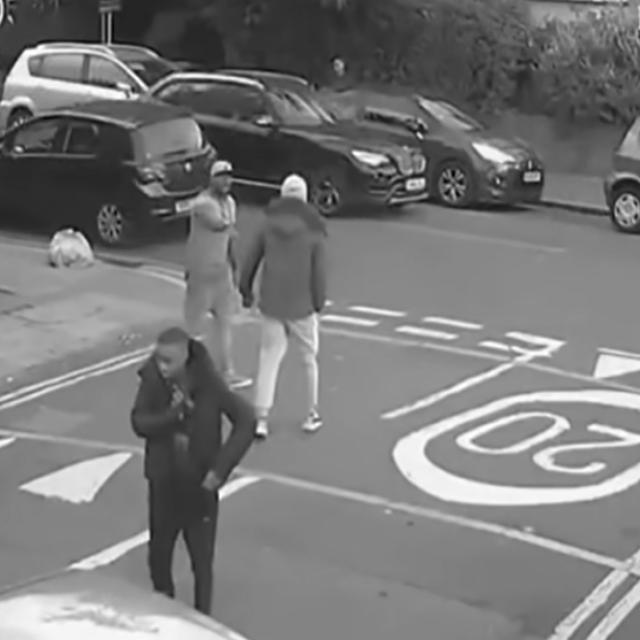Invader: (129, 325, 256, 615), (236, 172, 329, 439), (181, 158, 253, 390)
